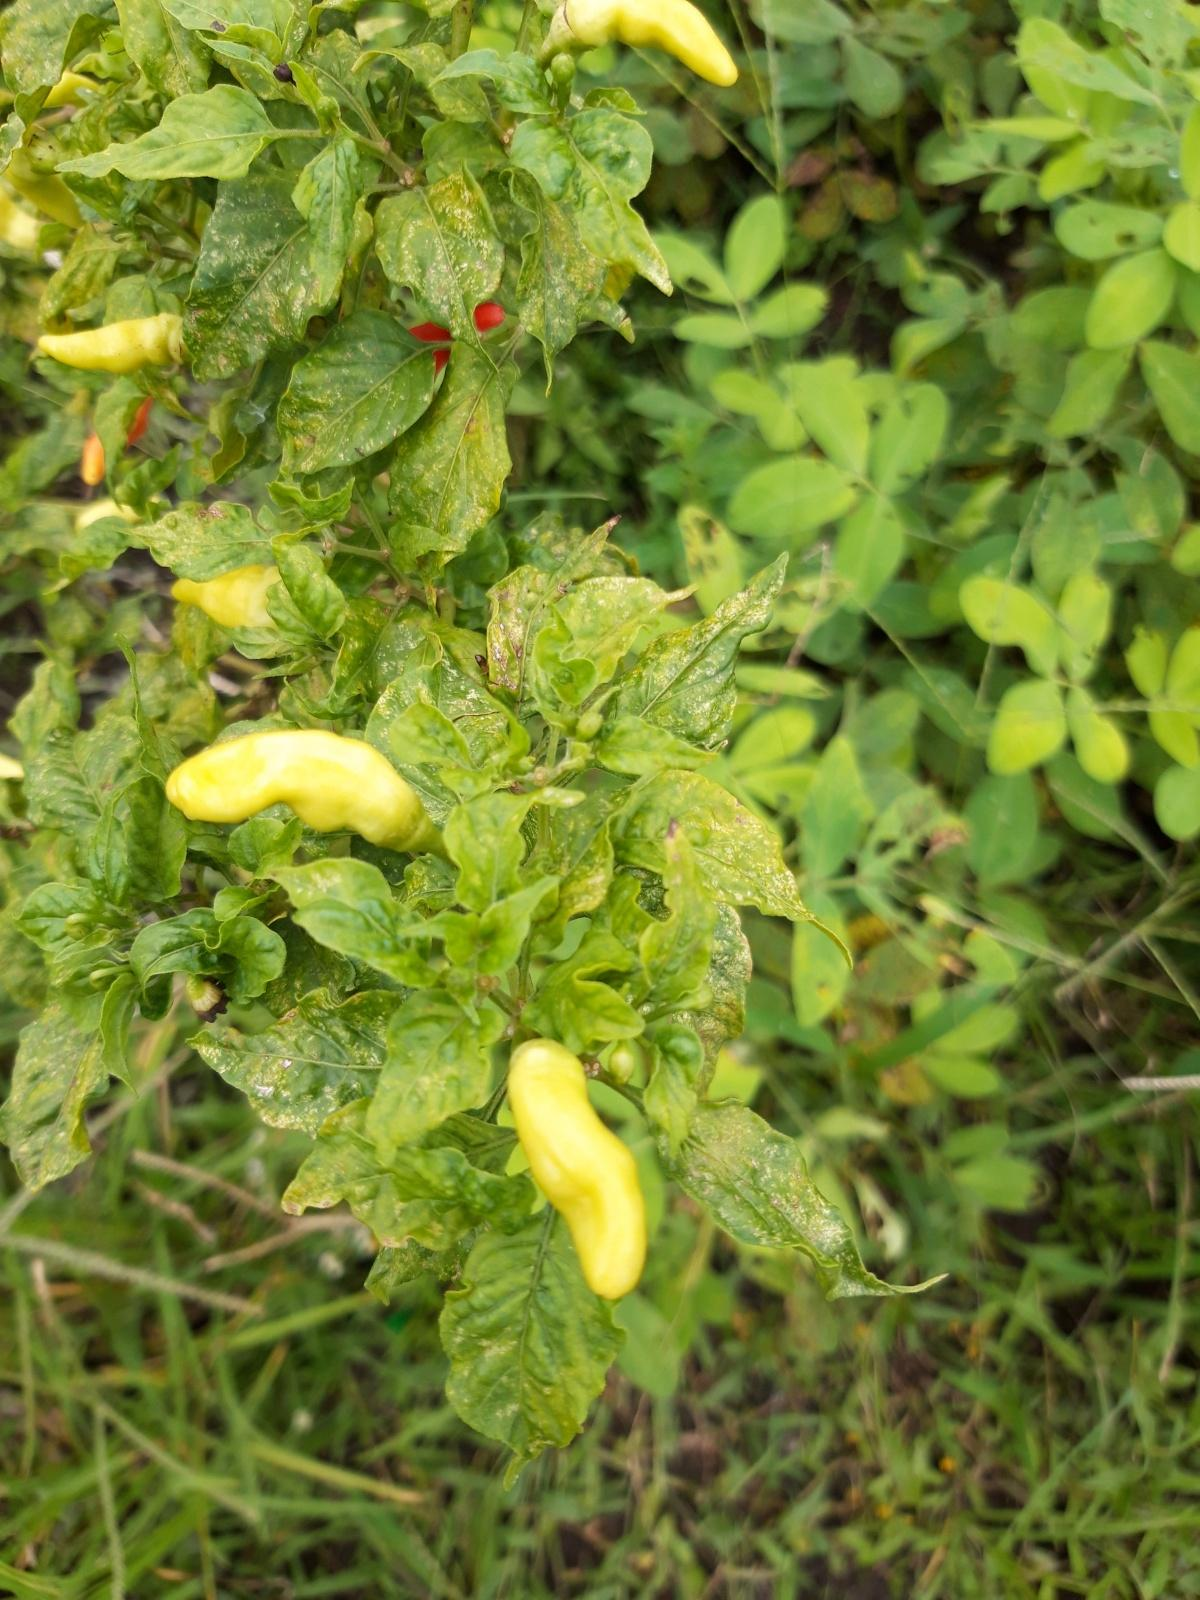cabai_normal: (507, 1038, 644, 1301), (166, 727, 432, 847), (565, 0, 741, 89), (35, 312, 187, 368), (169, 569, 306, 625)
